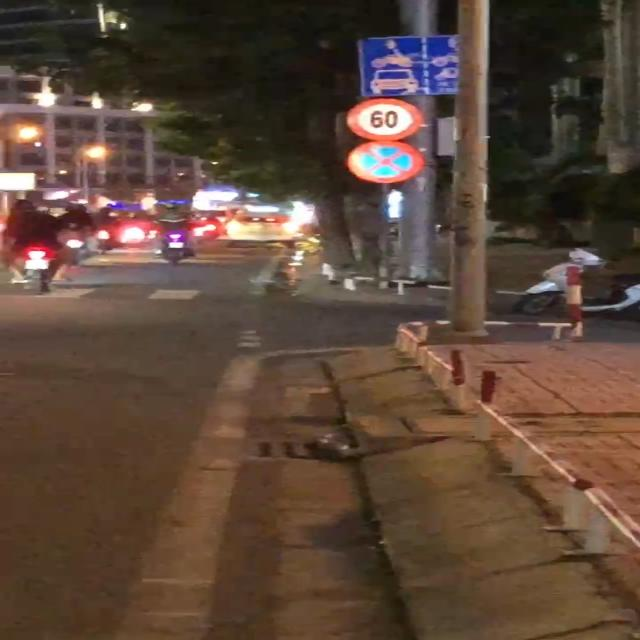Bien bao cam dung xe va do xe: (343, 138, 435, 186)
Bien bao toc do toi da cho phep: (343, 93, 427, 140)
